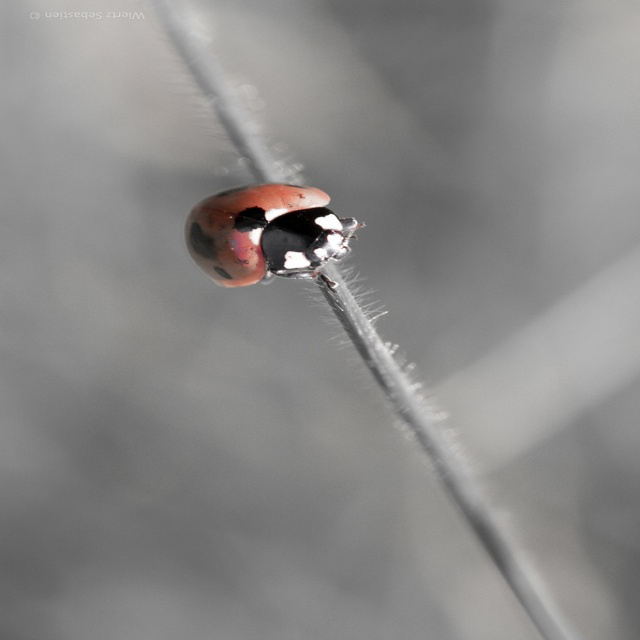Ladybug: (188, 190, 359, 293)
